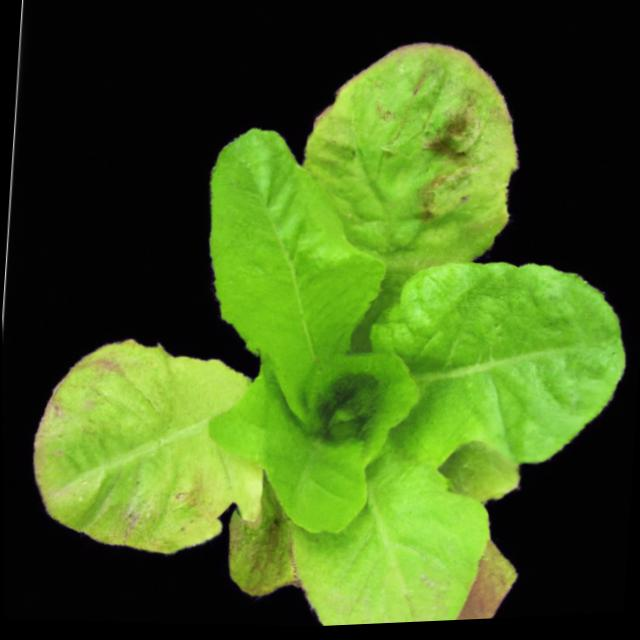-P: (11, 0, 640, 640)
